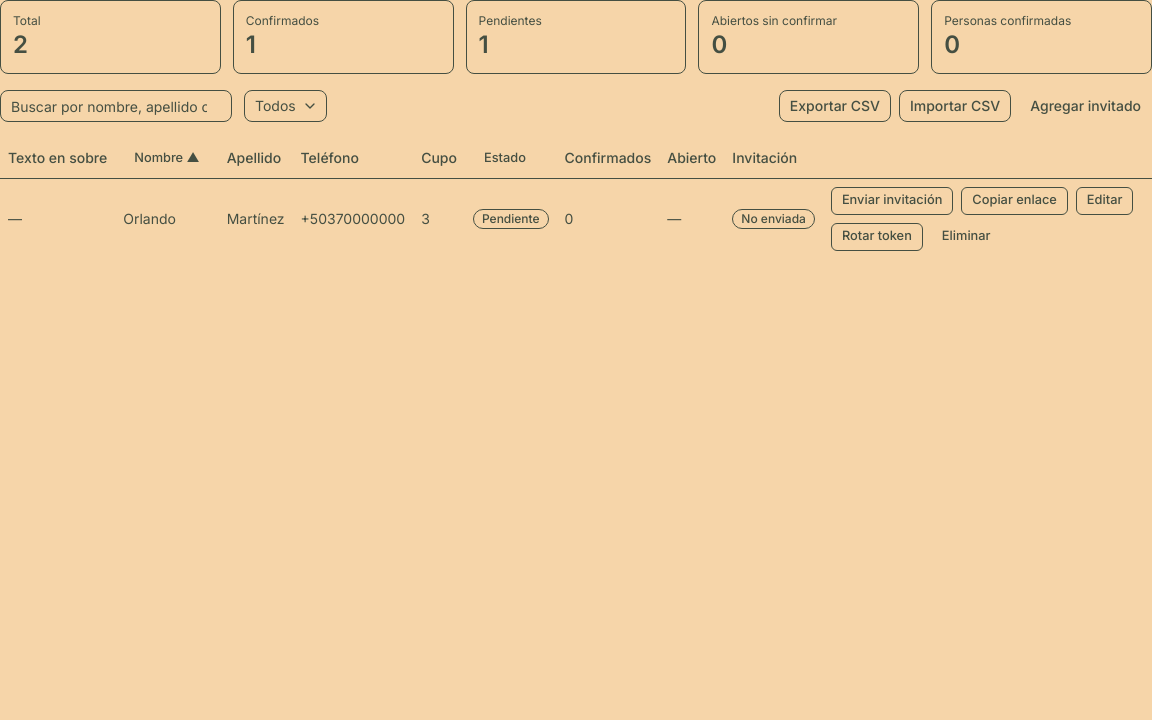
AdminGuestsBrowser › opensTheRotateTokenDialogForTheClickedGuest
This screenshot has width=1152, height=720.
Step 1. Click the button "Rotar token" → click(877, 236), box [831,222,923,250]
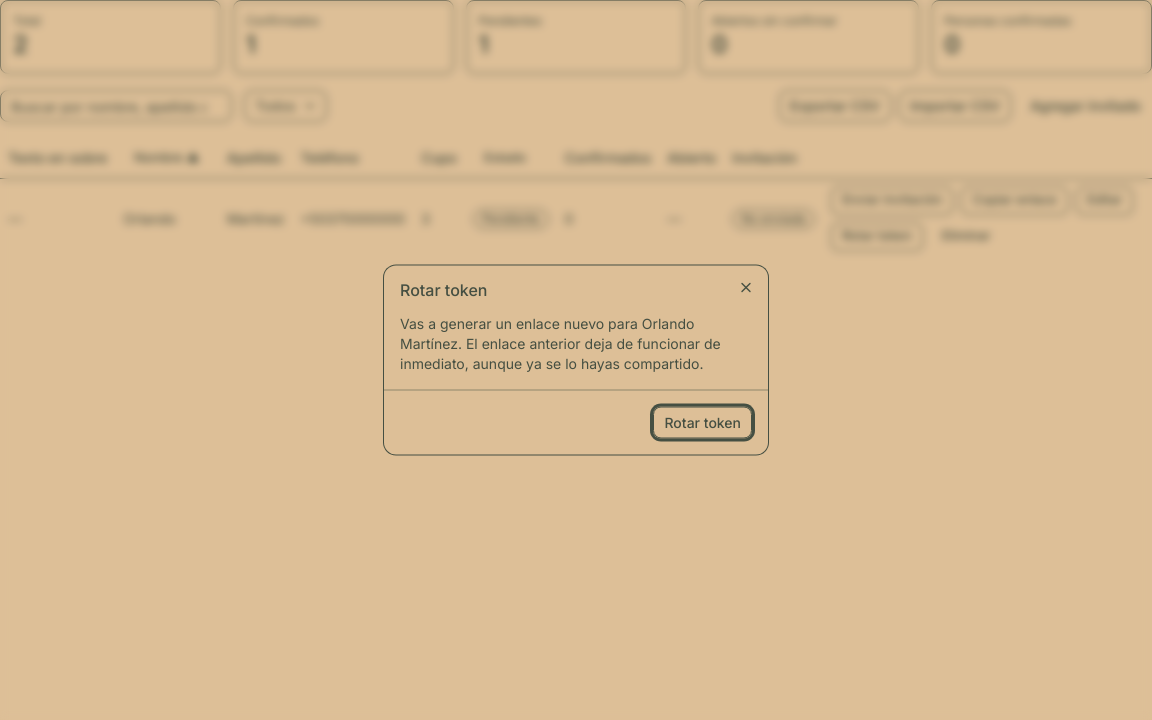
Expected: the dialog shows "Orlando", [400,314,721,372]
